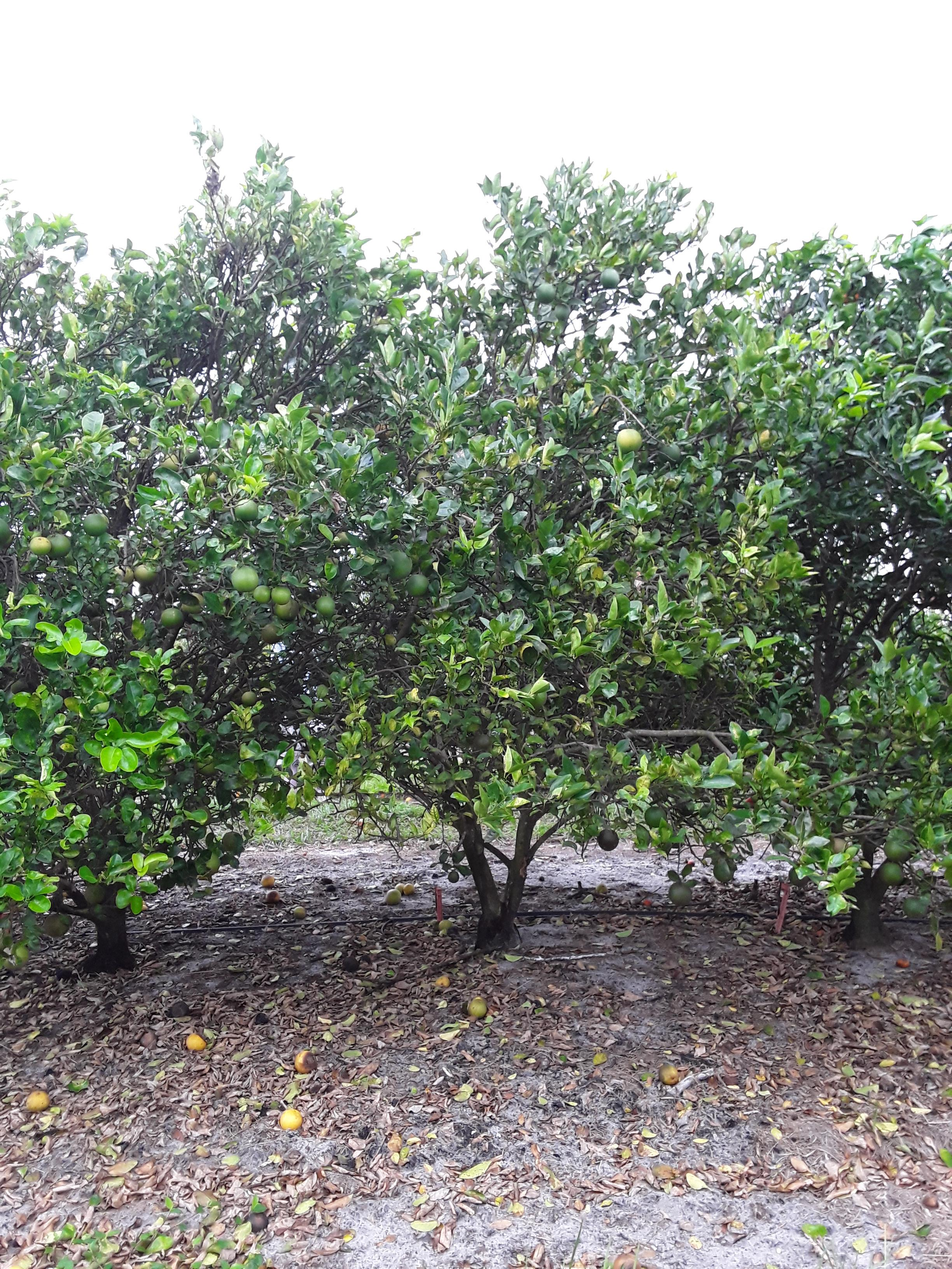fruit_on_ground: (515, 679, 552, 714), (882, 831, 918, 866), (0, 940, 32, 974), (383, 550, 413, 581), (614, 424, 645, 453), (231, 562, 260, 593), (874, 860, 906, 888), (44, 531, 73, 560), (107, 562, 137, 590), (41, 911, 71, 939), (80, 509, 110, 537), (133, 559, 161, 586), (233, 497, 261, 524), (901, 894, 930, 920), (159, 605, 187, 631), (177, 443, 204, 469), (710, 858, 737, 884), (667, 880, 694, 906), (405, 573, 431, 599), (82, 881, 109, 906), (178, 590, 205, 615), (833, 281, 861, 305), (220, 829, 246, 854), (595, 826, 620, 852), (28, 533, 54, 558), (642, 803, 668, 828), (598, 265, 623, 290), (533, 281, 558, 306), (276, 598, 302, 622), (314, 594, 338, 619), (660, 440, 684, 464), (250, 582, 275, 605), (198, 465, 221, 489), (0, 514, 15, 550), (258, 621, 281, 644), (270, 583, 293, 606), (825, 834, 849, 856), (156, 453, 181, 474), (787, 864, 810, 886), (471, 731, 493, 752), (552, 302, 574, 322), (676, 797, 697, 817), (238, 688, 259, 708), (381, 631, 399, 650), (446, 869, 461, 883)
fruit_on_tree: (24, 1087, 52, 1114), (292, 1049, 319, 1075), (278, 1106, 303, 1132), (465, 994, 489, 1020), (184, 1031, 207, 1054), (247, 1212, 270, 1234), (611, 1251, 639, 1269), (165, 999, 191, 1018), (658, 1063, 680, 1085), (340, 953, 361, 973), (137, 1029, 159, 1048), (920, 1192, 940, 1211), (432, 971, 452, 989), (252, 1009, 271, 1026), (384, 888, 402, 905), (401, 881, 418, 897), (259, 873, 276, 889), (436, 917, 453, 933), (264, 890, 282, 905), (291, 903, 307, 919), (593, 881, 609, 896), (392, 882, 407, 896), (894, 955, 910, 968), (640, 896, 653, 908), (319, 875, 334, 885), (324, 883, 337, 894)
